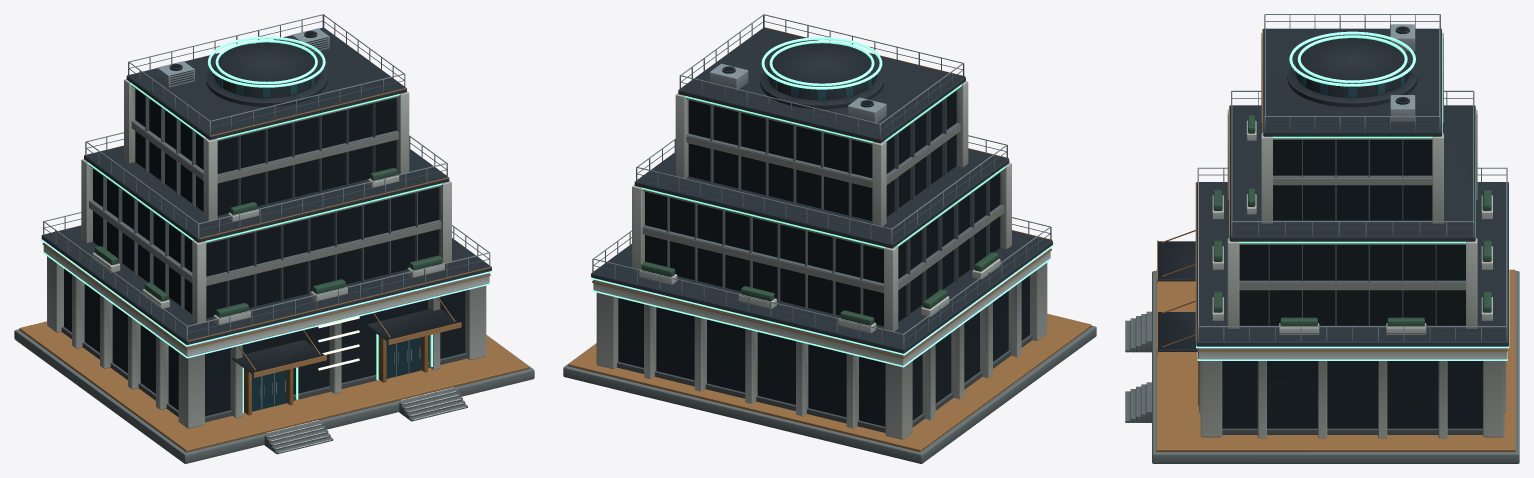
File: memory-archive.lod0.glb
3 renders of one model, left to right at view 1: azimuth 30°, elevation 25°; view 2: azimuth 150°, elevation 25°; view 3: azimuth 270°, elevation 25°, orthographic. The views are drawn at different scales.
Parts seen in each view (by area): view 1: structure, lobby; view 2: structure, lobby; view 3: structure, lobby.
Part boxes in pixels (<box>): structure: <box>14,14,534,463</box>; lobby: <box>64,269,465,416</box>; structure: <box>563,14,1096,463</box>; lobby: <box>618,275,1029,426</box>; structure: <box>1125,14,1519,463</box>; lobby: <box>1222,361,1482,428</box>.
Size of the model in its own units: 26 by 20.79 by 23.61.
